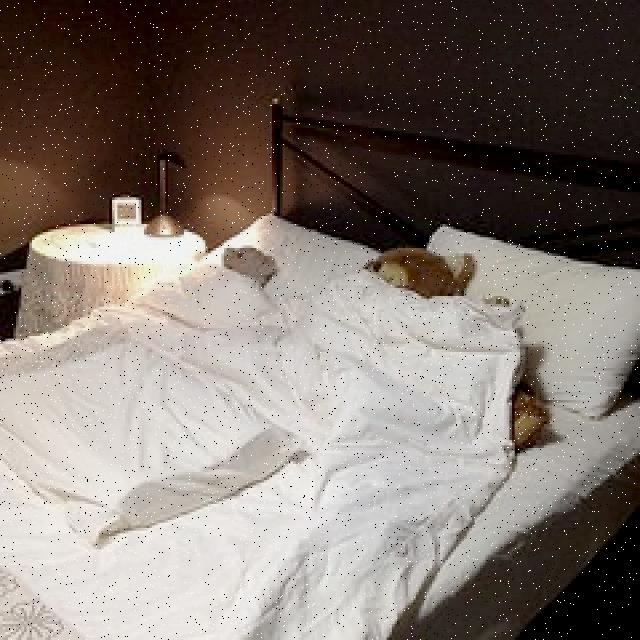bed: (0, 164, 635, 640)
